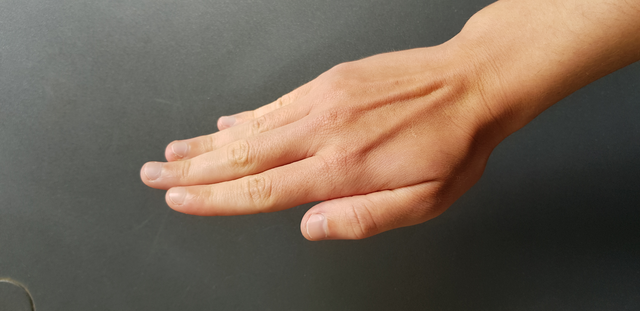Paper: (124, 42, 495, 245)
